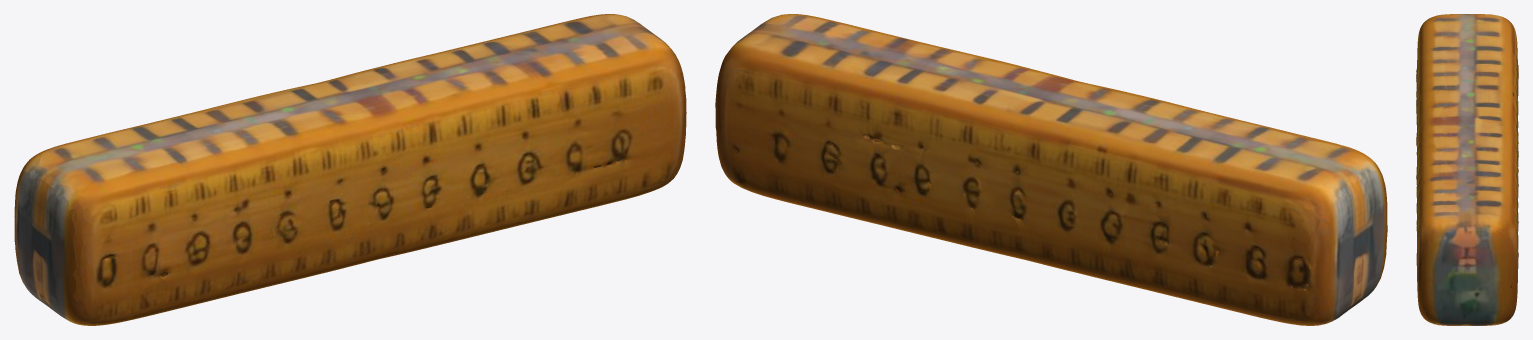
The model's file is print_ruler.glb.
3 renders of one model, left to right at view 1: azimuth 30°, elevation 25°; view 2: azimuth 150°, elevation 25°; view 3: azimuth 270°, elevation 25°, orthographic. The views are drawn at different scales.
Visible parts, largest first — view 1: world; view 2: world; view 3: world.
Part boxes in pixels (x1,y1,x2,y2): world: (14,14,686,325); world: (715,14,1387,325); world: (1416,14,1518,325).
Bounding box in the file's own units: 0.21 × 0.0476 × 0.041.
1 material, 1 textured.
